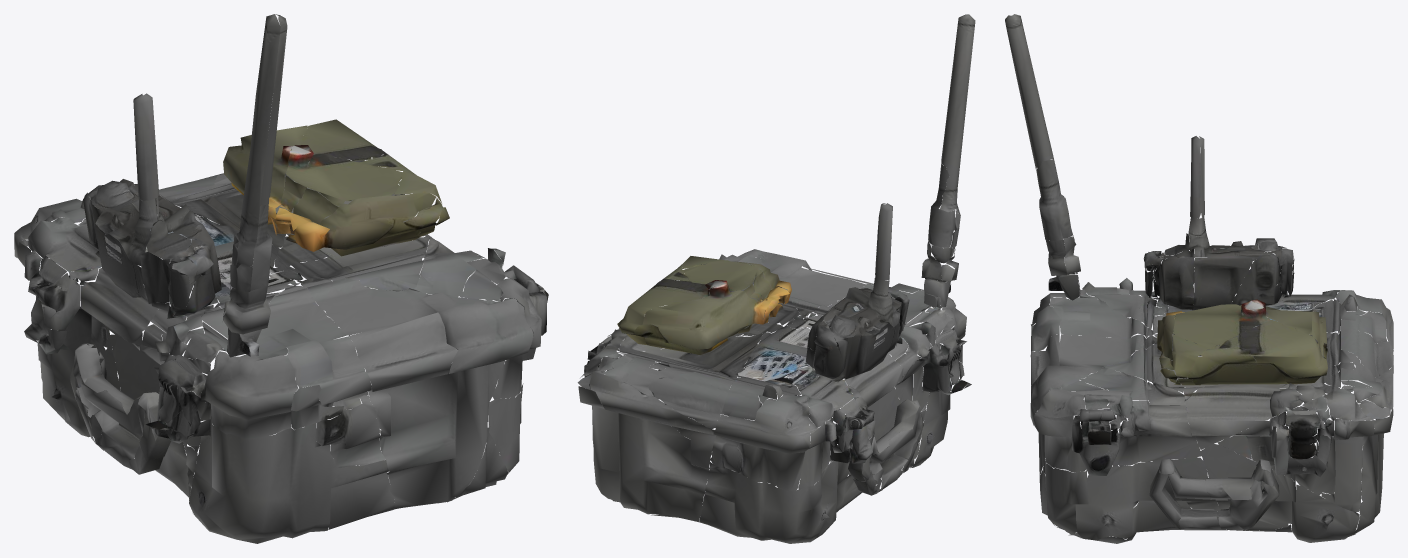
The model's file is prop_expedition_radio_station_LOD0.glb.
3 views of the same model, side by side, from view 1: azimuth 30°, elevation 25°; view 2: azimuth 150°, elevation 25°; view 3: azimuth 270°, elevation 25° (orthographic). The views are drawn at different scales.
Visible parts, largest first — view 1: tripo_node_0a4e3f66-2cd6-4ce0-ba71-ba6d2677f7e4; view 2: tripo_node_0a4e3f66-2cd6-4ce0-ba71-ba6d2677f7e4; view 3: tripo_node_0a4e3f66-2cd6-4ce0-ba71-ba6d2677f7e4.
Boxes of the visible parts, x1,y1,x2,y2 form: tripo_node_0a4e3f66-2cd6-4ce0-ba71-ba6d2677f7e4: (14,14,548,543); tripo_node_0a4e3f66-2cd6-4ce0-ba71-ba6d2677f7e4: (577,14,975,543); tripo_node_0a4e3f66-2cd6-4ce0-ba71-ba6d2677f7e4: (1005,14,1393,543).
Size of the model in its own units: 0.7128 by 1 by 0.8206.
Materials: 1 (1 with a texture image).
